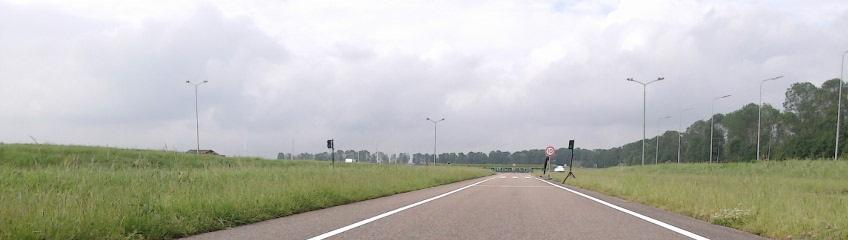Speed-limit-10km-h-: (545, 147, 554, 156)
TrafficLight-green: (569, 140, 574, 150)
